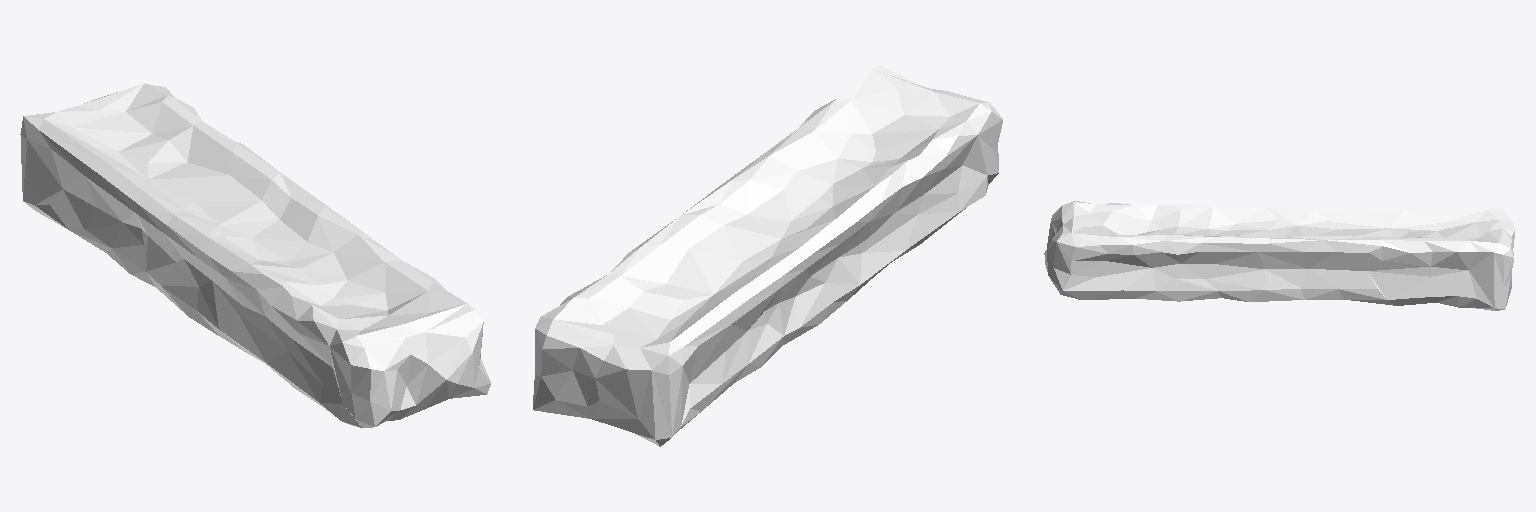
The robot description file, URDF, robot "atb1_bar-12mm":
<?xml version="0.0" ?>
<robot name="atb1_bar-12mm">
  <link name="baseLink">
    <contact>
      <friction_anchor/>
      <lateral_friction value="0.8"/>
      <spinning_friction value="0.001"/>
      <rolling_friction value="0.001"/>
      <contact_cfm value="0.0"/>
      <contact_erp value="0.2"/>
    </contact>
    <inertial>
       <origin rpy="0 0 0" xyz="0 0 0"/>
       <mass value="0.01"/>
       <inertia ixx="1e-3" ixy="0" ixz="0" iyy="1e-3" iyz="0" izz="1e-3"/>
    </inertial>
    <visual>
      <origin rpy="0 0 0" xyz="0 0 0"/>
      <geometry>
        <mesh filename="obj/fused_model.obj" scale="1 1 1"/>
      </geometry>
      <material name="white">
        <color rgba="1. 1. 1. 1."/>
      </material>
    </visual>
    <collision>
      <origin rpy="0 0 0" xyz="0 0 0"/>
      <geometry>
        <mesh filename="obj/fused_model.obj" scale="1 1 1"/>
      </geometry>
    </collision>
  </link>
</robot>

--- What the picture shows (computed from the rendered views, not written in the file) ---
The picture shows the robot from 3 angles, left to right: view 1: azimuth 30°, elevation 25°; view 2: azimuth 150°, elevation 25°; view 3: azimuth 270°, elevation 25°; orthographic projection.
Robot: atb1_bar-12mm — 1 links, 0 joints (none); root link baseLink; default pose: all joints at 0.
Visible links, largest first — view 1: baseLink; view 2: baseLink; view 3: baseLink.
Boxes of the visible links, bbox=[...] form: baseLink: bbox=[20, 83, 490, 428]; baseLink: bbox=[533, 65, 1002, 446]; baseLink: bbox=[1044, 201, 1514, 310].
Size in the robot's own frame: 0.0121 by 0.0515 by 0.0093 metres.
1 mesh visuals loaded from 1 distinct referenced files (1 OBJ).
